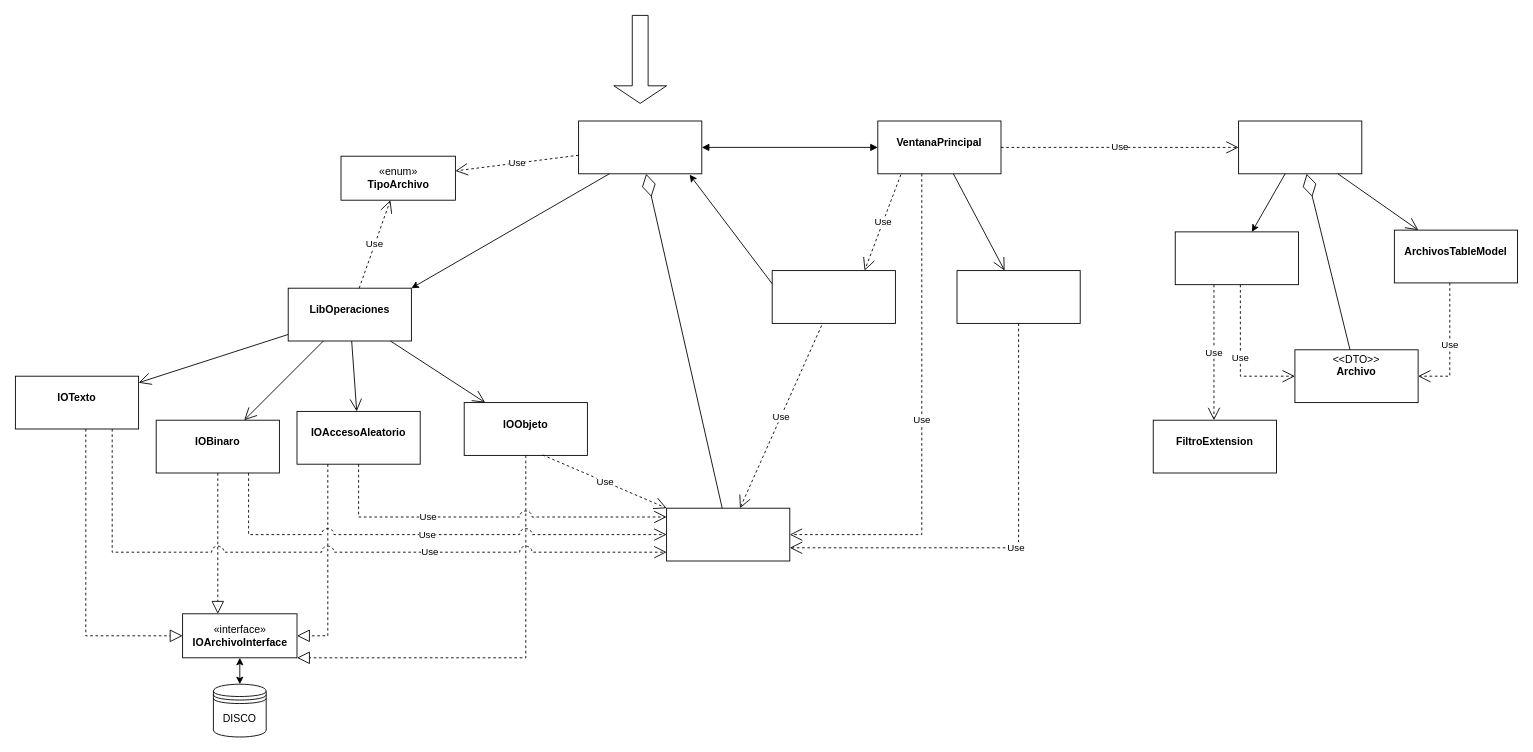
The diagram is 1533 pixels wide and 752 high, and some of its shapes have lost their labels. Here are the shapes that lost their labels. From the top down, the box of each, then its label:
(578, 120, 702, 174): <<MAIN>> Logica
(1238, 120, 1362, 174): DSelectorArchivo
(1174, 231, 1298, 285): LogicaSelectorArchivo
(771, 270, 895, 323): DAlumno
(956, 270, 1080, 323): AlumnosTableModel
(666, 507, 790, 561): <<DTO>> Alumno
